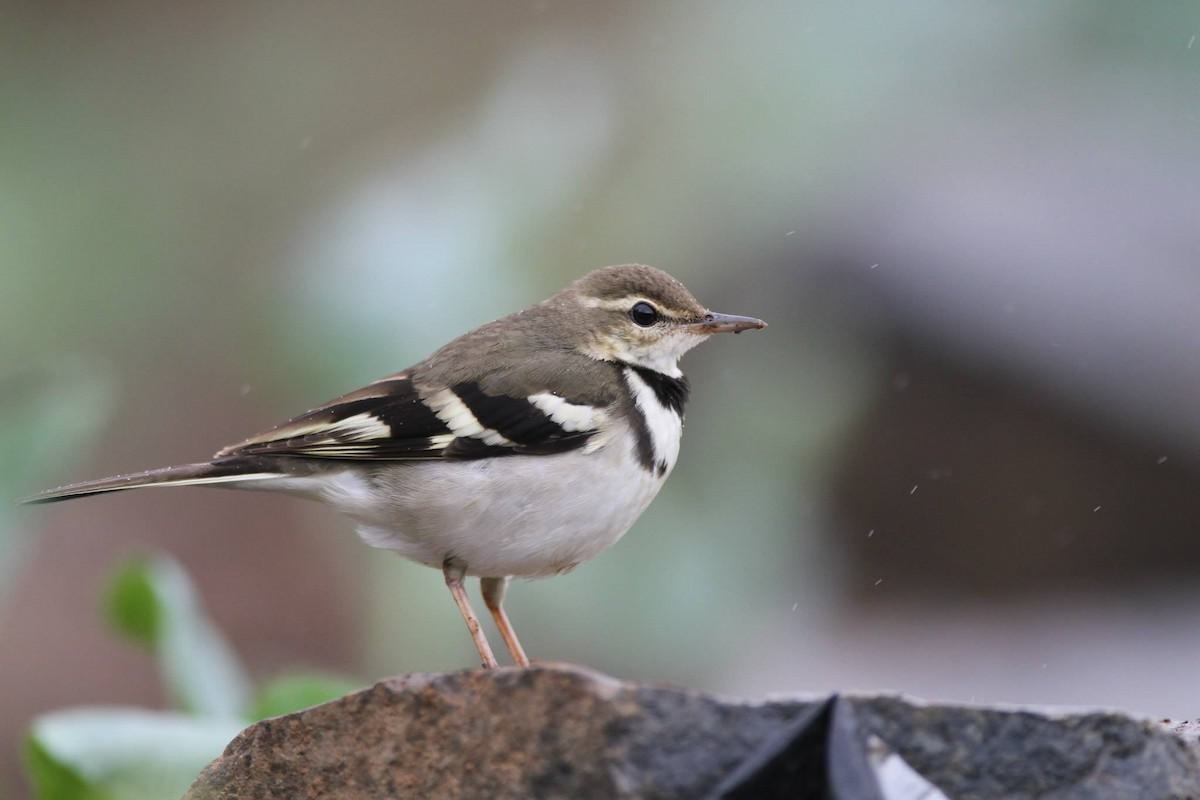wagtail: (207, 238, 757, 646)
